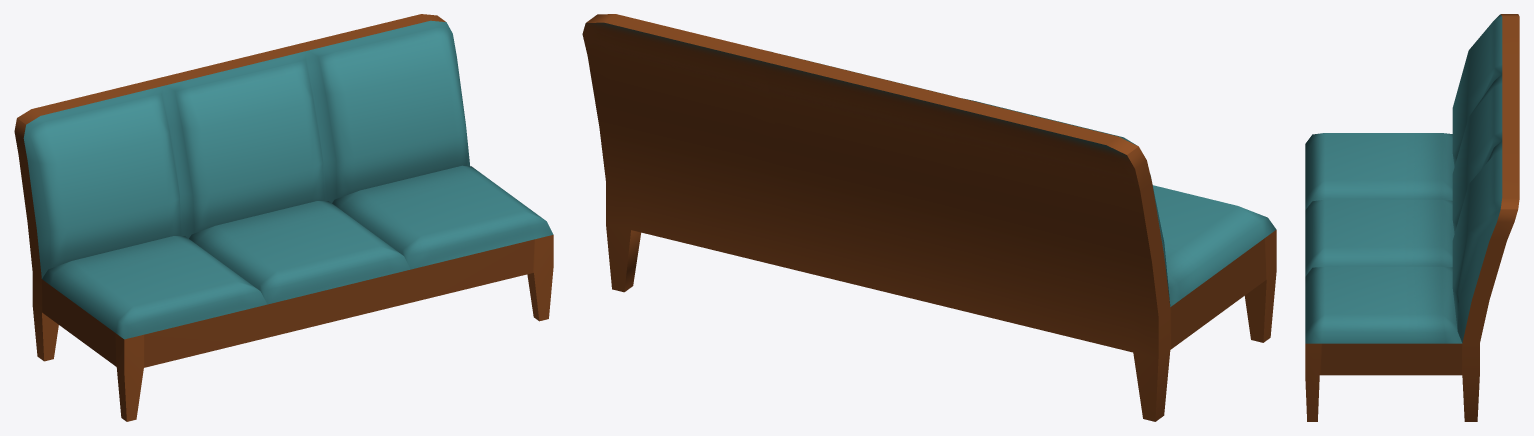
Rendered from Sofa.fbx.
The picture shows the model from 3 angles, left to right: view 1: azimuth 30°, elevation 25°; view 2: azimuth 150°, elevation 25°; view 3: azimuth 270°, elevation 25°; orthographic projection. The views are drawn at different scales.
Visible parts, largest first — view 1: Sofa; view 2: Sofa; view 3: Sofa.
Boxes of the visible parts, box(x1,y1,x2,y2) form: Sofa: box(14, 14, 553, 421); Sofa: box(582, 14, 1276, 421); Sofa: box(1305, 14, 1519, 421).
Size of the model in its own units: 326 by 165 by 148.
